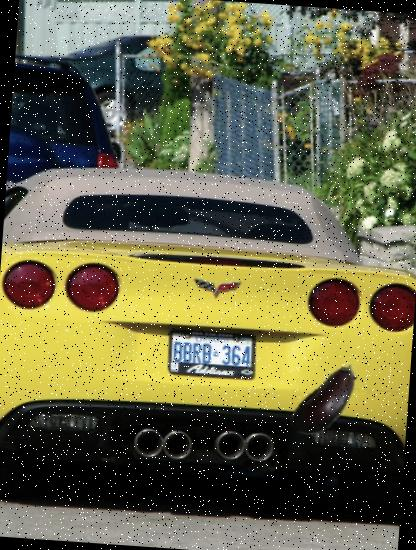Eggplant: (280, 356, 375, 450)
